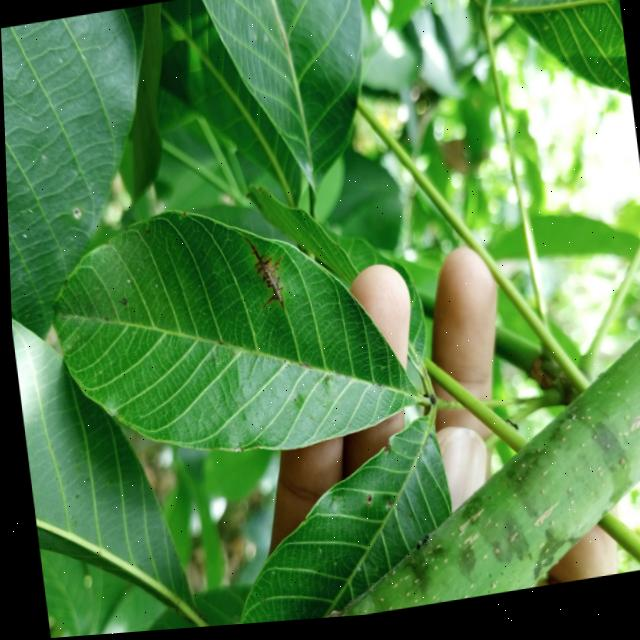Corynespora: (242, 234, 285, 315)
